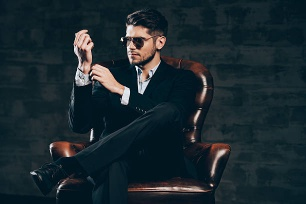male: (122, 8, 169, 69)
